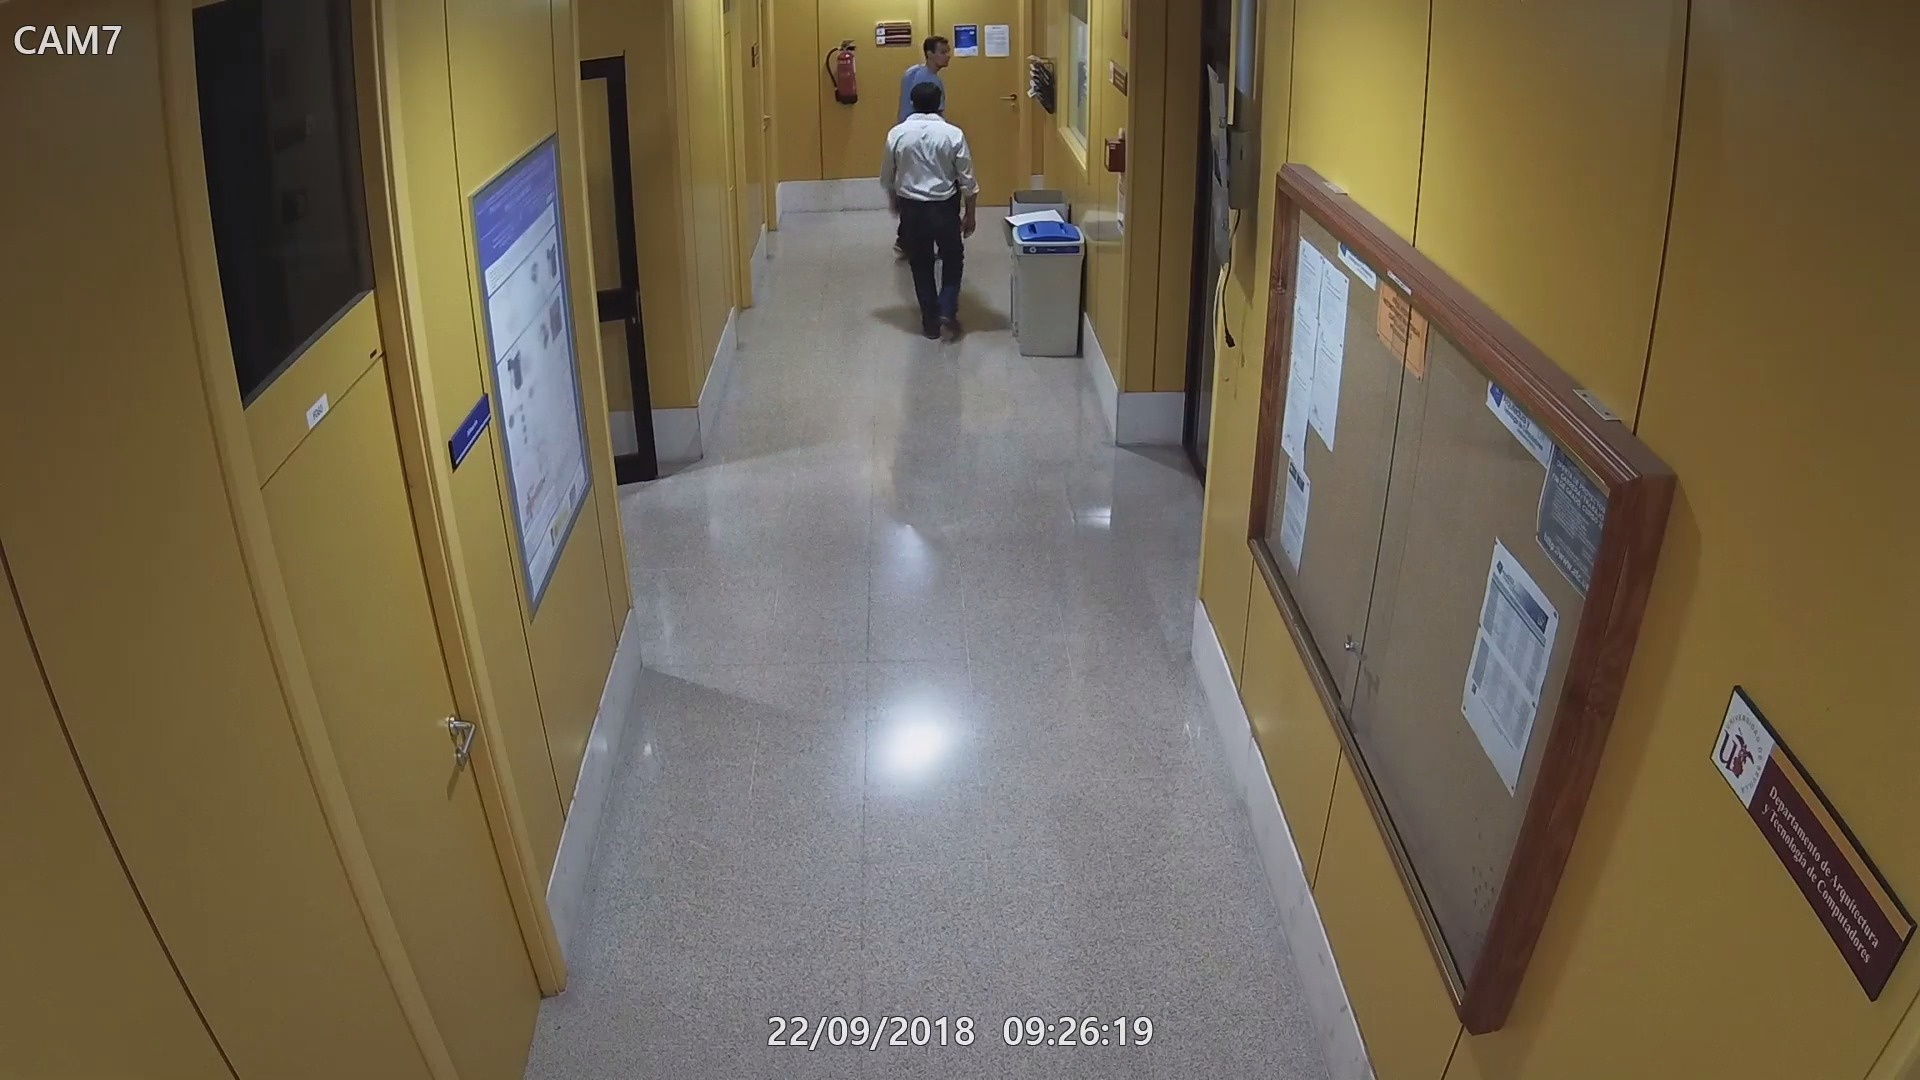Handgun: (944, 173, 963, 203)
